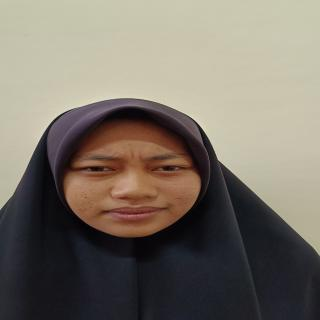Marah: (52, 114, 208, 243)
